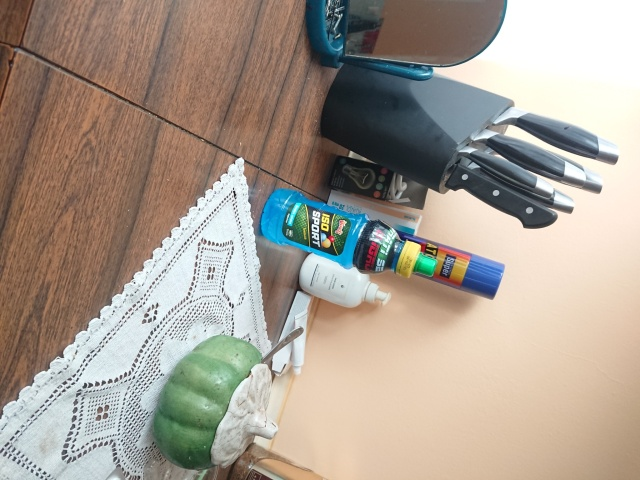Vindi Iso Sport Forest Strawberries 500mL: (258, 186, 438, 279)
